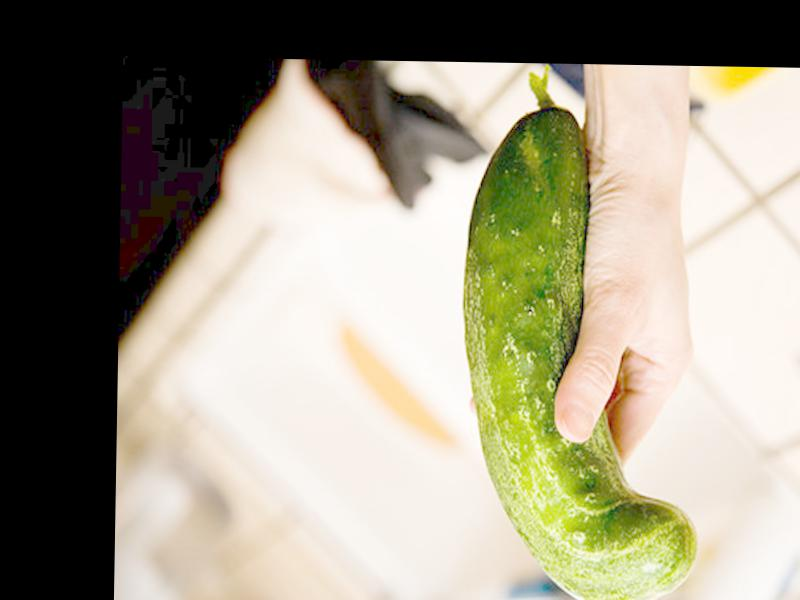Cucumber: (456, 70, 704, 600)
